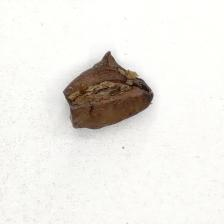NG: (103, 46, 153, 107), (59, 85, 94, 132)
